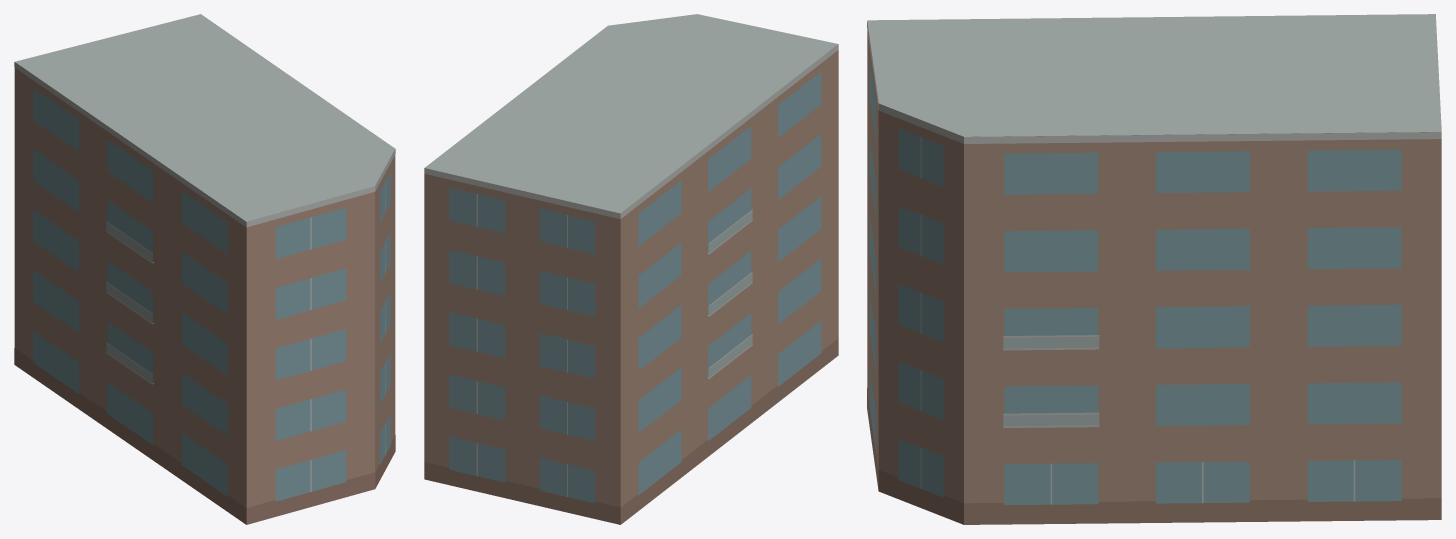
The model's file is survey-upis-32662694.glb.
The picture shows the model from 3 angles, left to right: view 1: azimuth 30°, elevation 25°; view 2: azimuth 150°, elevation 25°; view 3: azimuth 270°, elevation 25°; orthographic projection. The views are drawn at different scales.
Visible parts, largest first — view 1: survey-upis-32662694.tmp; view 2: survey-upis-32662694.tmp; view 3: survey-upis-32662694.tmp.
Boxes of the visible parts, x1=… form: survey-upis-32662694.tmp: x1=14, y1=14, x2=395, y2=524; survey-upis-32662694.tmp: x1=424, y1=14, x2=838, y2=524; survey-upis-32662694.tmp: x1=867, y1=14, x2=1441, y2=524.
Size of the model in its own units: 8.98 by 13.2 by 17.73.
